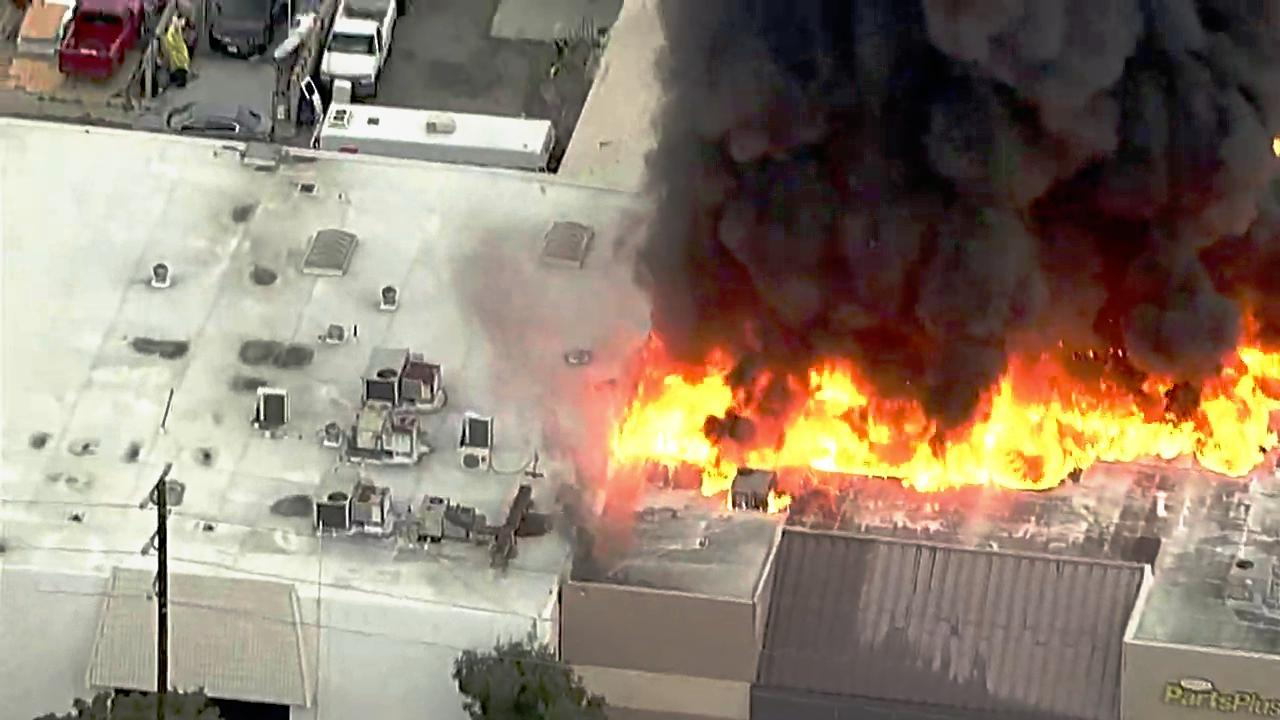fire: (902, 375, 1087, 499), (1104, 339, 1280, 462), (750, 352, 890, 490), (609, 331, 738, 454)
smoke: (684, 0, 1280, 307)
